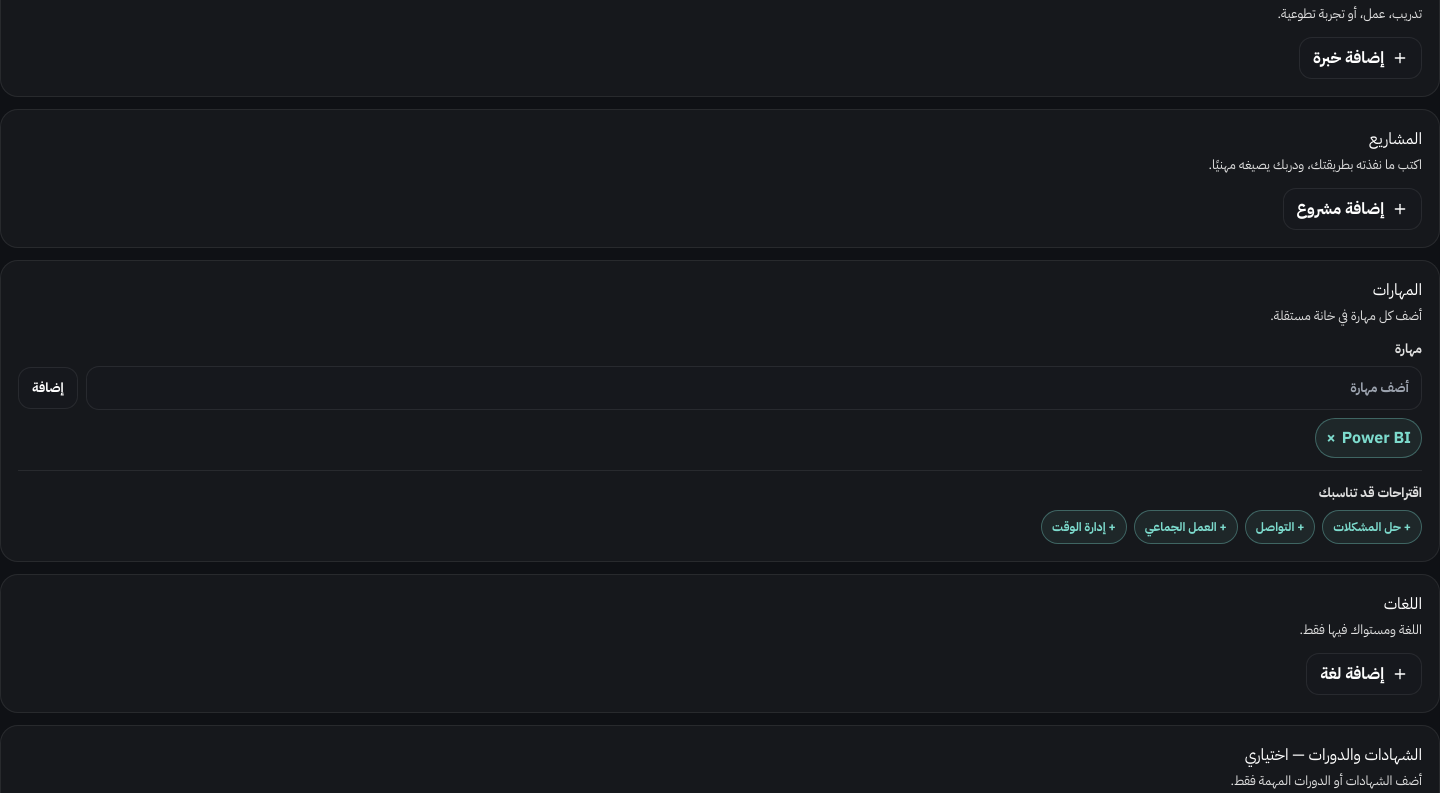
Test: simplified Resume Data form › keeps skills as separate tags
(page scrolled)
Type "Microsoft Excel" into the field with placeholder "أضف مهارة".
click(754, 388); type("Microsoft Excel")  # box [86, 366, 1422, 410]
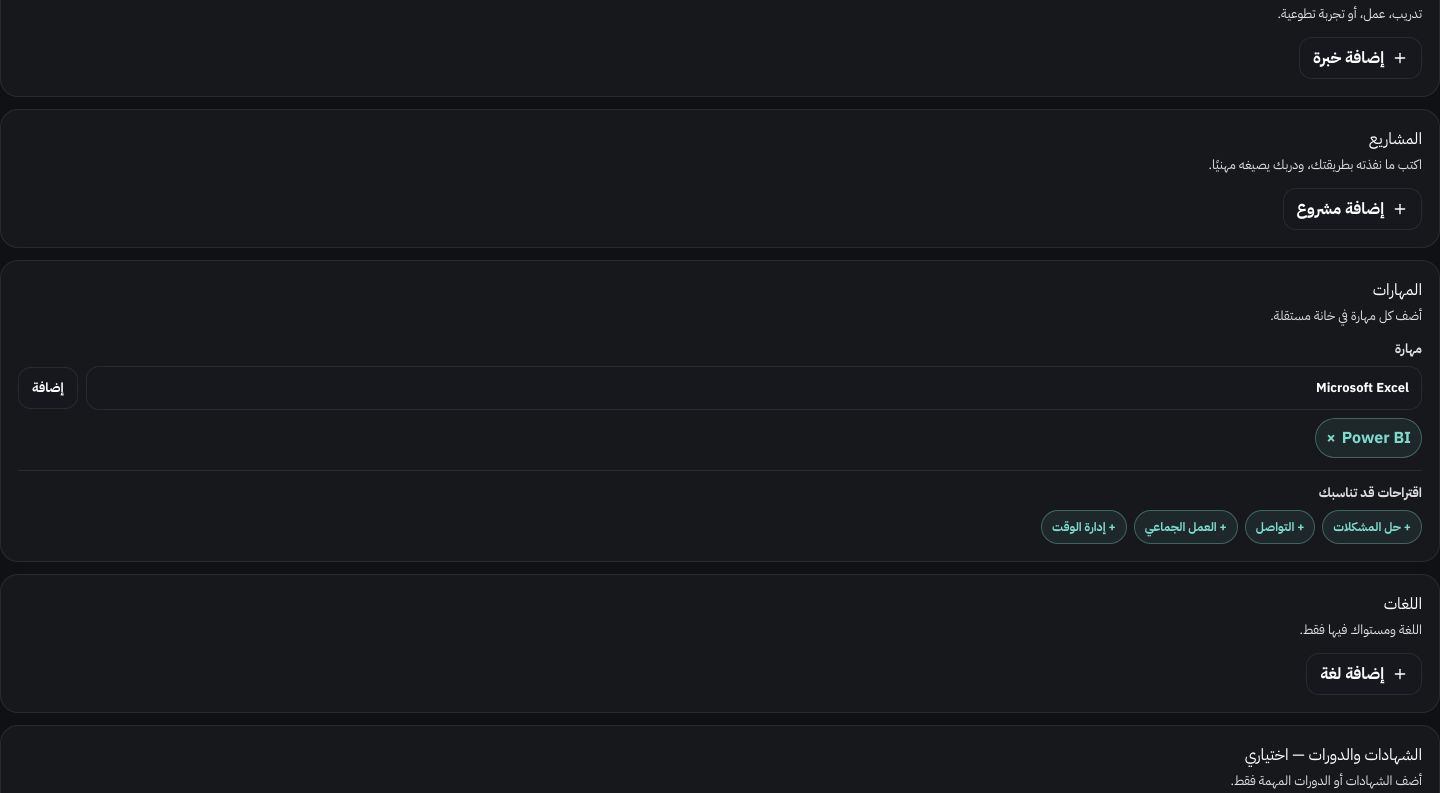
Click the button "إضافة".
click(48, 388)  # box [18, 367, 78, 409]
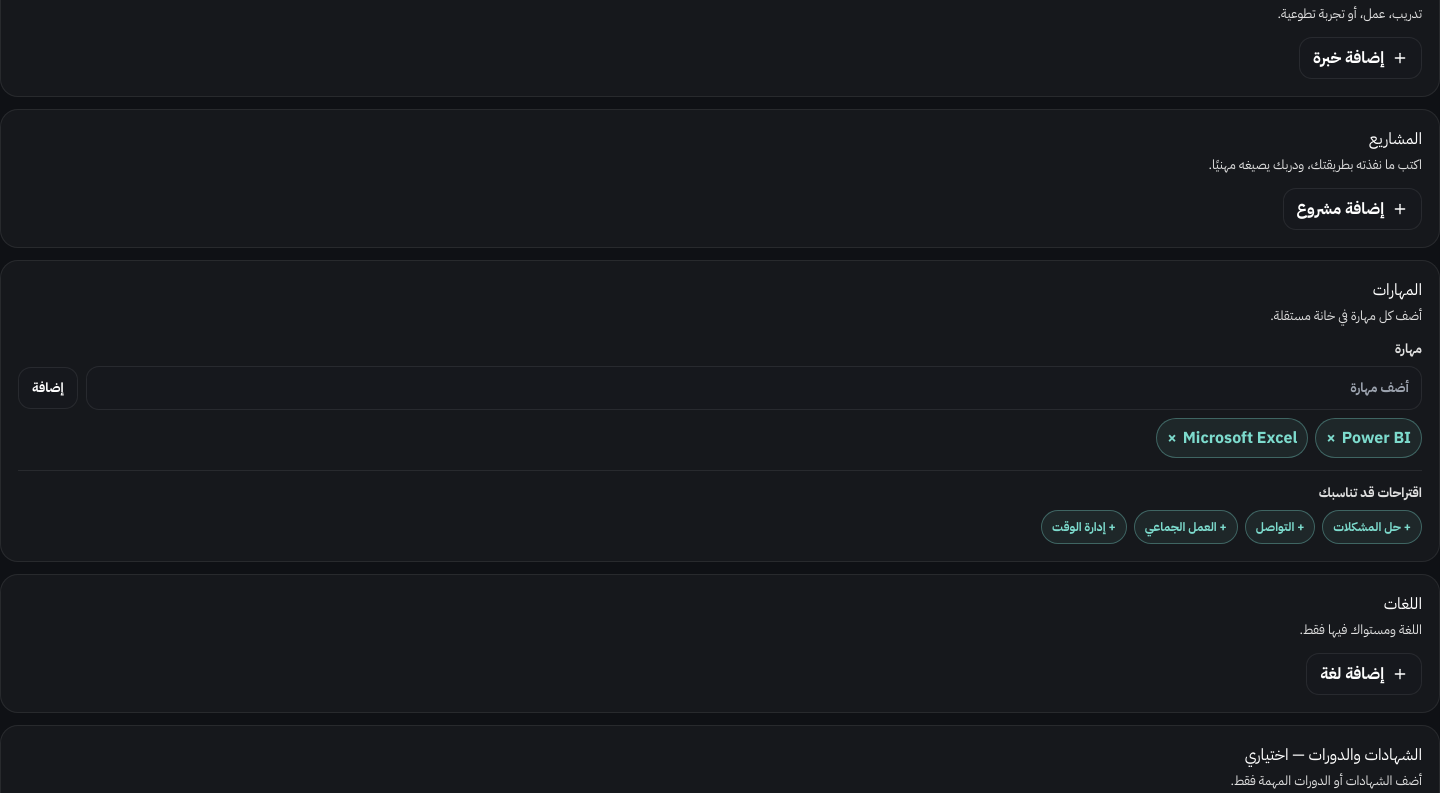
Check: the button "Microsoft Excel×" is shown, box [1156, 418, 1308, 458]
